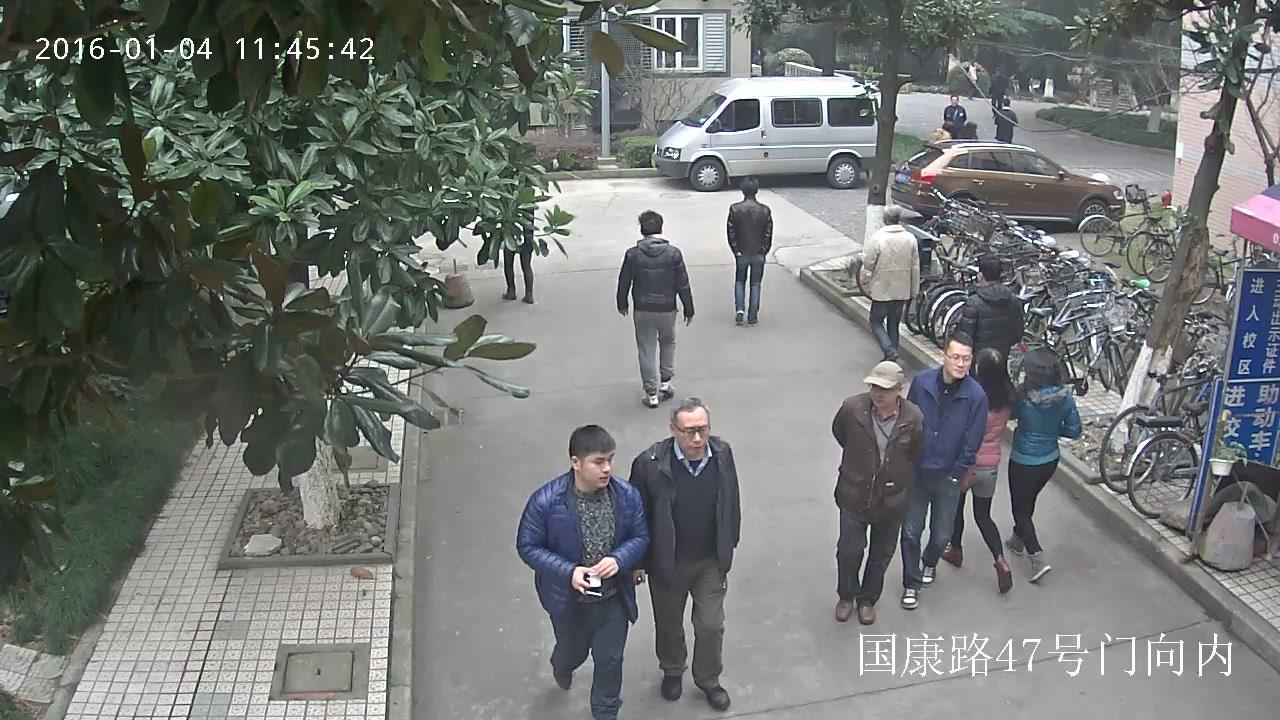person: (517, 425, 651, 720), (626, 396, 741, 710), (831, 360, 924, 626), (900, 332, 988, 608), (942, 347, 1013, 593), (1009, 349, 1081, 585), (615, 209, 694, 410), (863, 206, 921, 365), (954, 254, 1025, 360), (727, 174, 773, 327), (501, 188, 534, 303), (995, 98, 1017, 142), (989, 67, 1007, 118), (944, 94, 966, 129), (963, 60, 980, 99)
